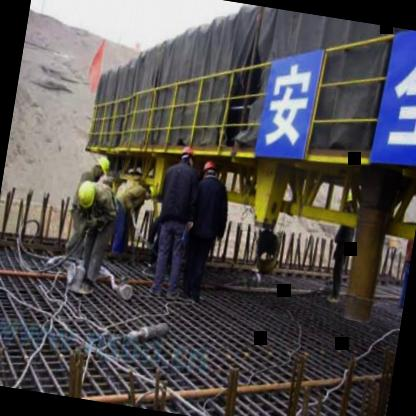helmet: (74, 176, 102, 212), (88, 150, 116, 184), (198, 155, 227, 186), (175, 141, 198, 171), (141, 180, 160, 202)
